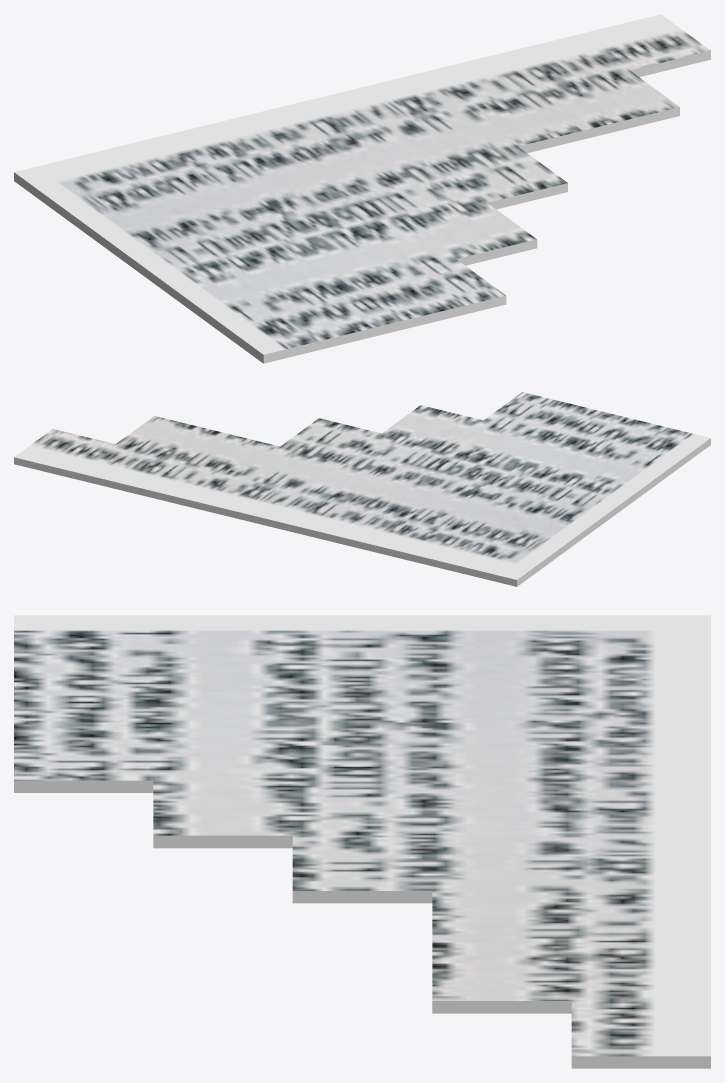
File: Paper_Torn_4.fbx
The picture shows the model from 3 angles, top to bottom: view 1: azimuth 30°, elevation 25°; view 2: azimuth 150°, elevation 25°; view 3: azimuth 270°, elevation 25°; orthographic projection. The views are drawn at different scales.
Parts seen in each view (by area): view 1: polySurface22; view 2: polySurface22; view 3: polySurface22.
Boxes of the visible parts, x1=… form: polySurface22: x1=14, y1=14, x2=710, y2=363; polySurface22: x1=14, y1=392, x2=710, y2=586; polySurface22: x1=14, y1=615, x2=710, y2=1068.
Size of the model in its own units: 41.02 by 0.5413 by 27.4.
1 material, 1 textured.
